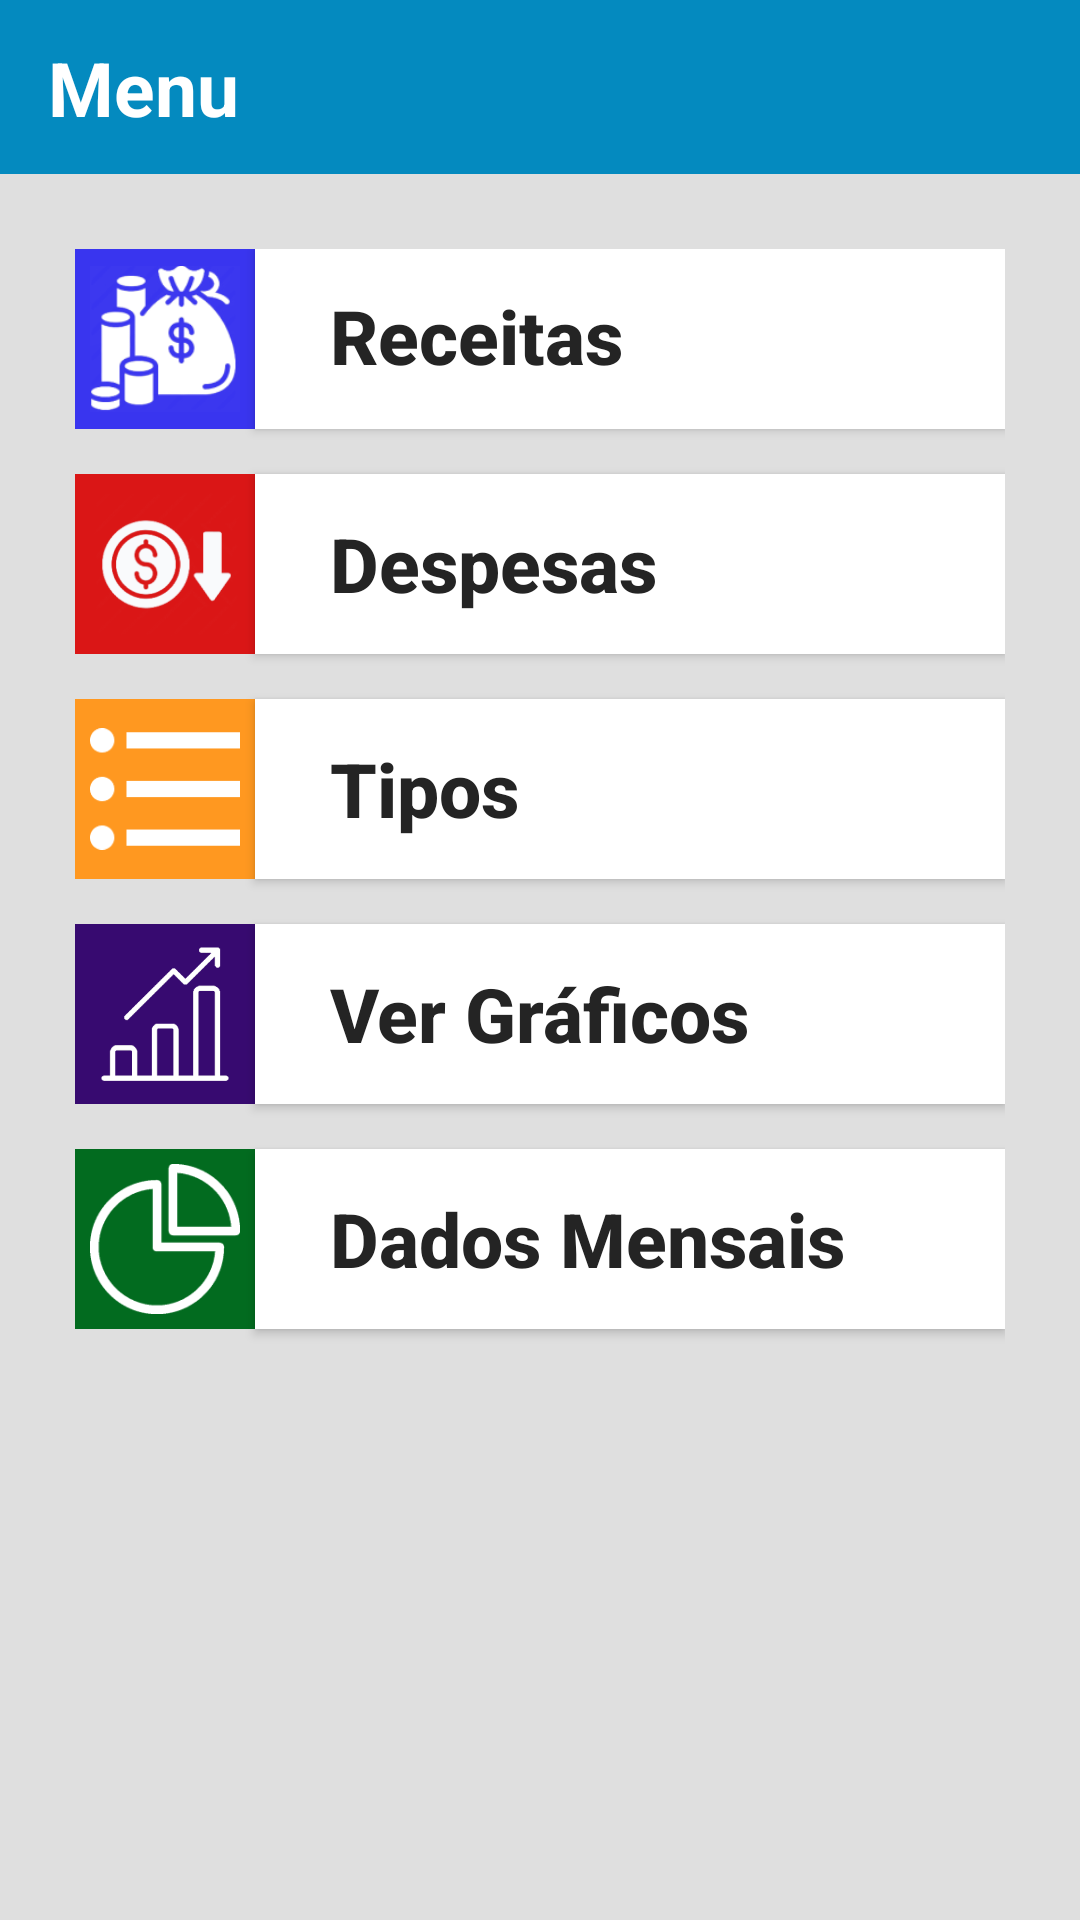

Icon click points for this 1080w x 1920h phone screenshot, format (x=x, y=y):
chart: (x=165, y=1014)
expense: (x=166, y=564)
mensal data: (x=165, y=1239)
type: (x=165, y=789)
